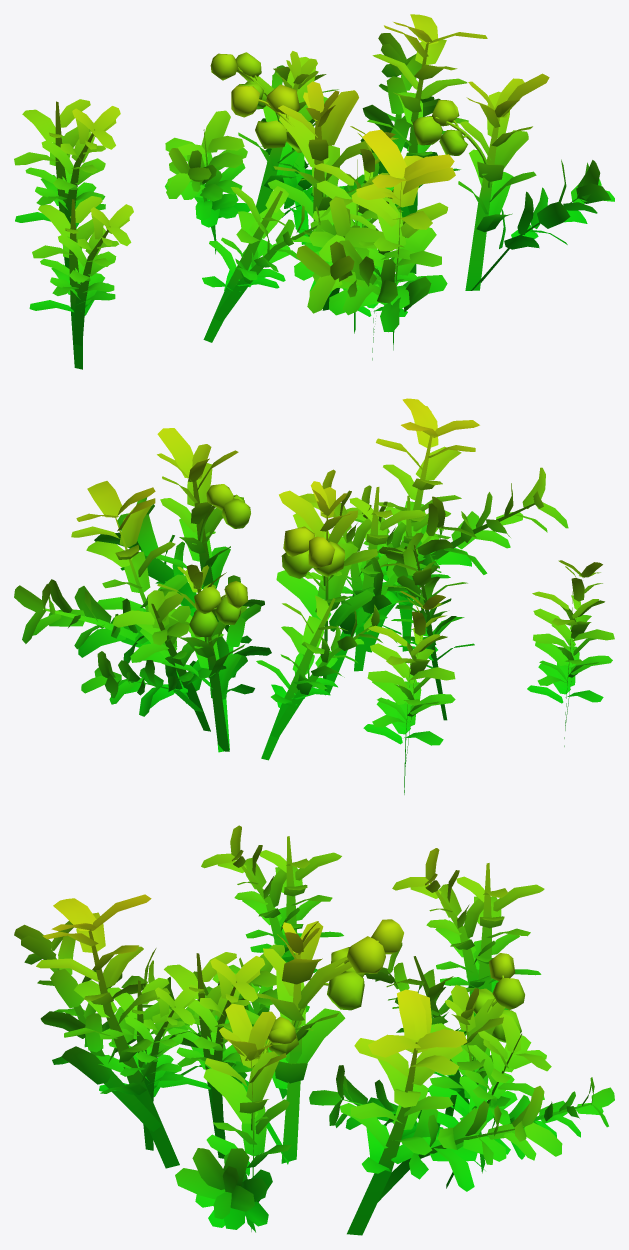
Rendered from Lingonberry_LOD2_Var5_wjhjahlqx.fbx.
The picture shows the model from 3 angles, top to bottom: view 1: azimuth 30°, elevation 25°; view 2: azimuth 150°, elevation 25°; view 3: azimuth 270°, elevation 25°; orthographic projection. The views are drawn at different scales.
Parts seen in each view (by area): view 1: _amzc_Var5_LOD2; view 2: _amzc_Var5_LOD2; view 3: _amzc_Var5_LOD2.
Boxes of the visible parts, bbox=[...] form: _amzc_Var5_LOD2: bbox=[14, 14, 614, 369]; _amzc_Var5_LOD2: bbox=[14, 398, 614, 794]; _amzc_Var5_LOD2: bbox=[14, 825, 614, 1235].
Bounding box in the file's own units: 34.11 × 14.48 × 29.43.
